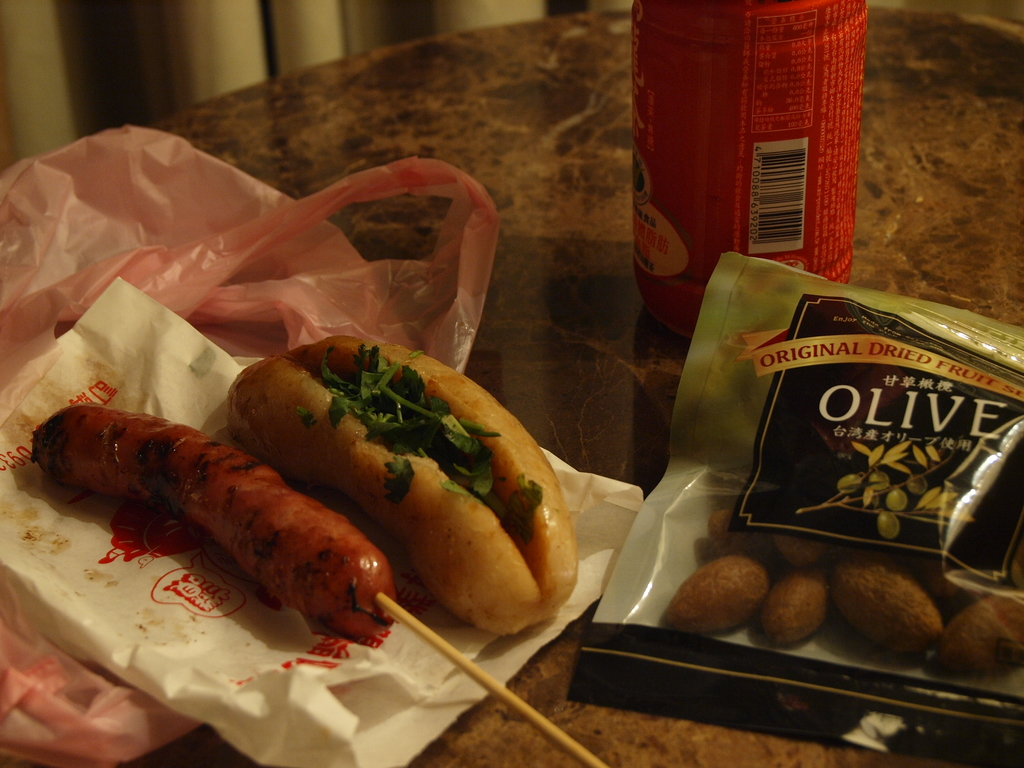hot_dog: (223, 333, 586, 643)
